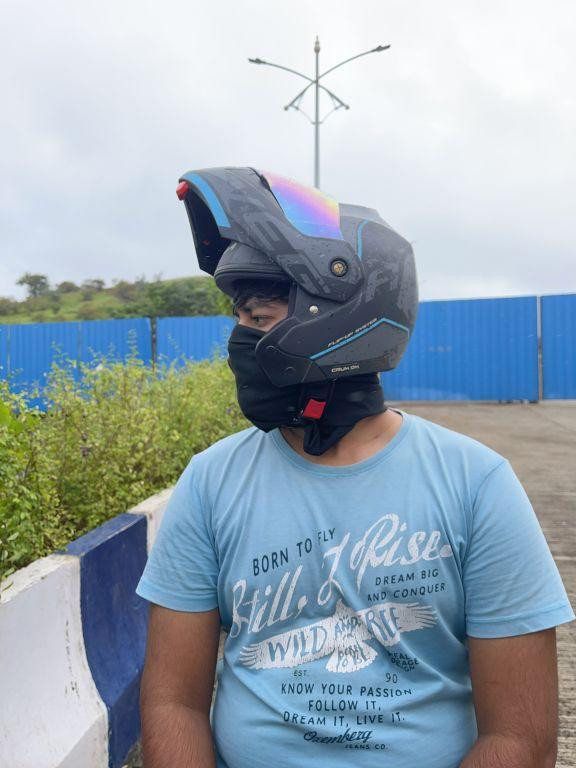helmet: (170, 159, 424, 433)
